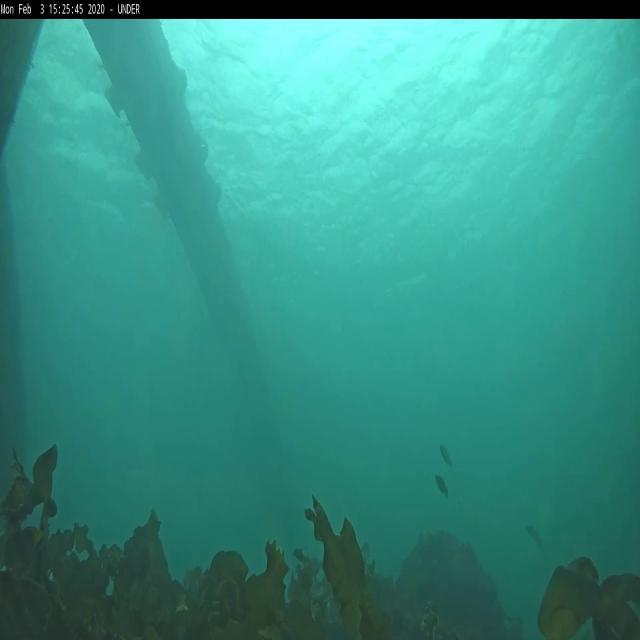fish: (524, 520, 544, 548), (433, 472, 448, 500), (439, 444, 451, 470)
